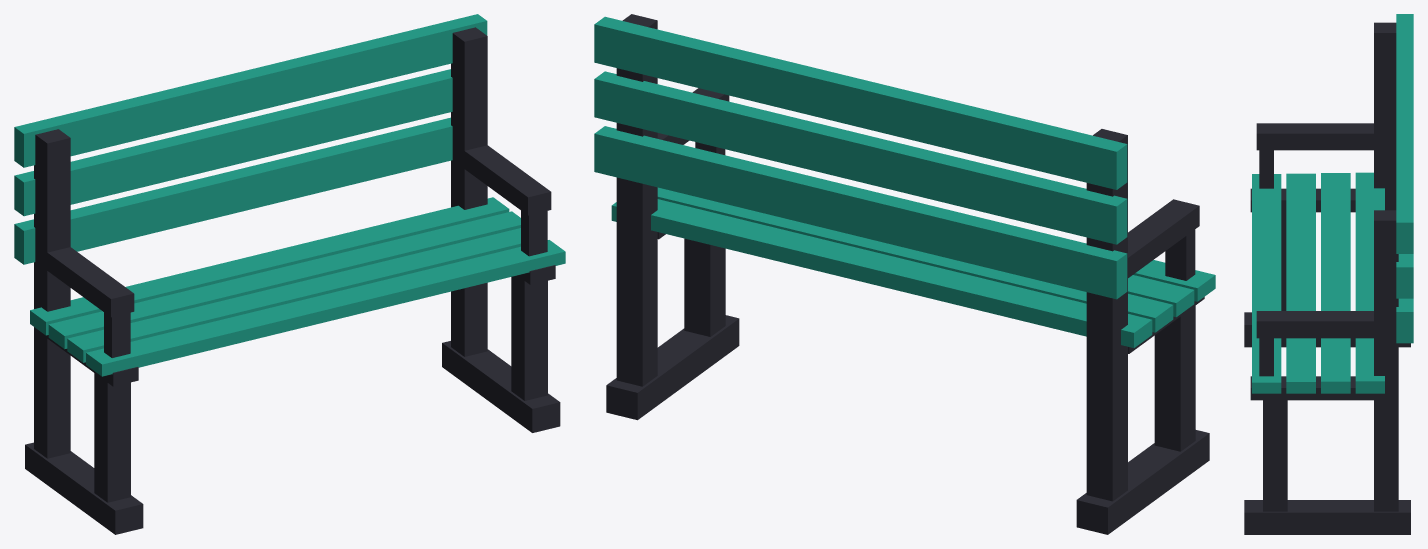
Rendered from CatCafe_Square_Bench.glb.
3 renders of one model, left to right at view 1: azimuth 30°, elevation 25°; view 2: azimuth 150°, elevation 25°; view 3: azimuth 270°, elevation 25°, orthographic. The views are drawn at different scales.
Visible parts, largest first — view 1: CatCafe_Square_Bench; view 2: CatCafe_Square_Bench; view 3: CatCafe_Square_Bench.
Boxes of the visible parts, x1,y1,x2,y2 form: CatCafe_Square_Bench: (14,14,565,534); CatCafe_Square_Bench: (594,14,1215,534); CatCafe_Square_Bench: (1244,14,1413,534).
Size of the model in its own units: 4 by 2.83 by 1.37.
1 material, 1 textured.
